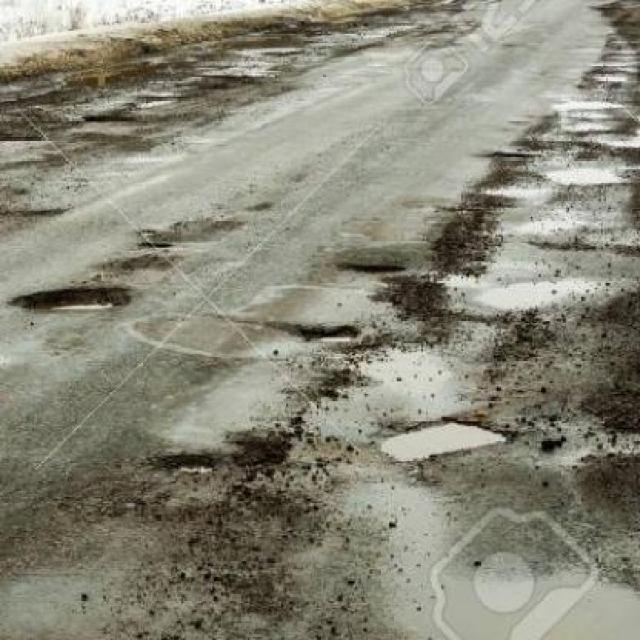pothole: (370, 407, 515, 470), (3, 278, 134, 314), (159, 447, 219, 478), (299, 320, 361, 345)
